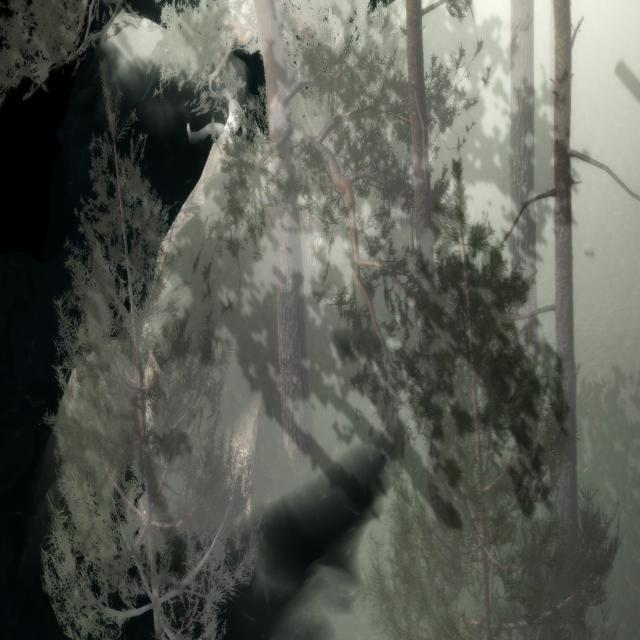Human: (183, 94, 249, 151)
